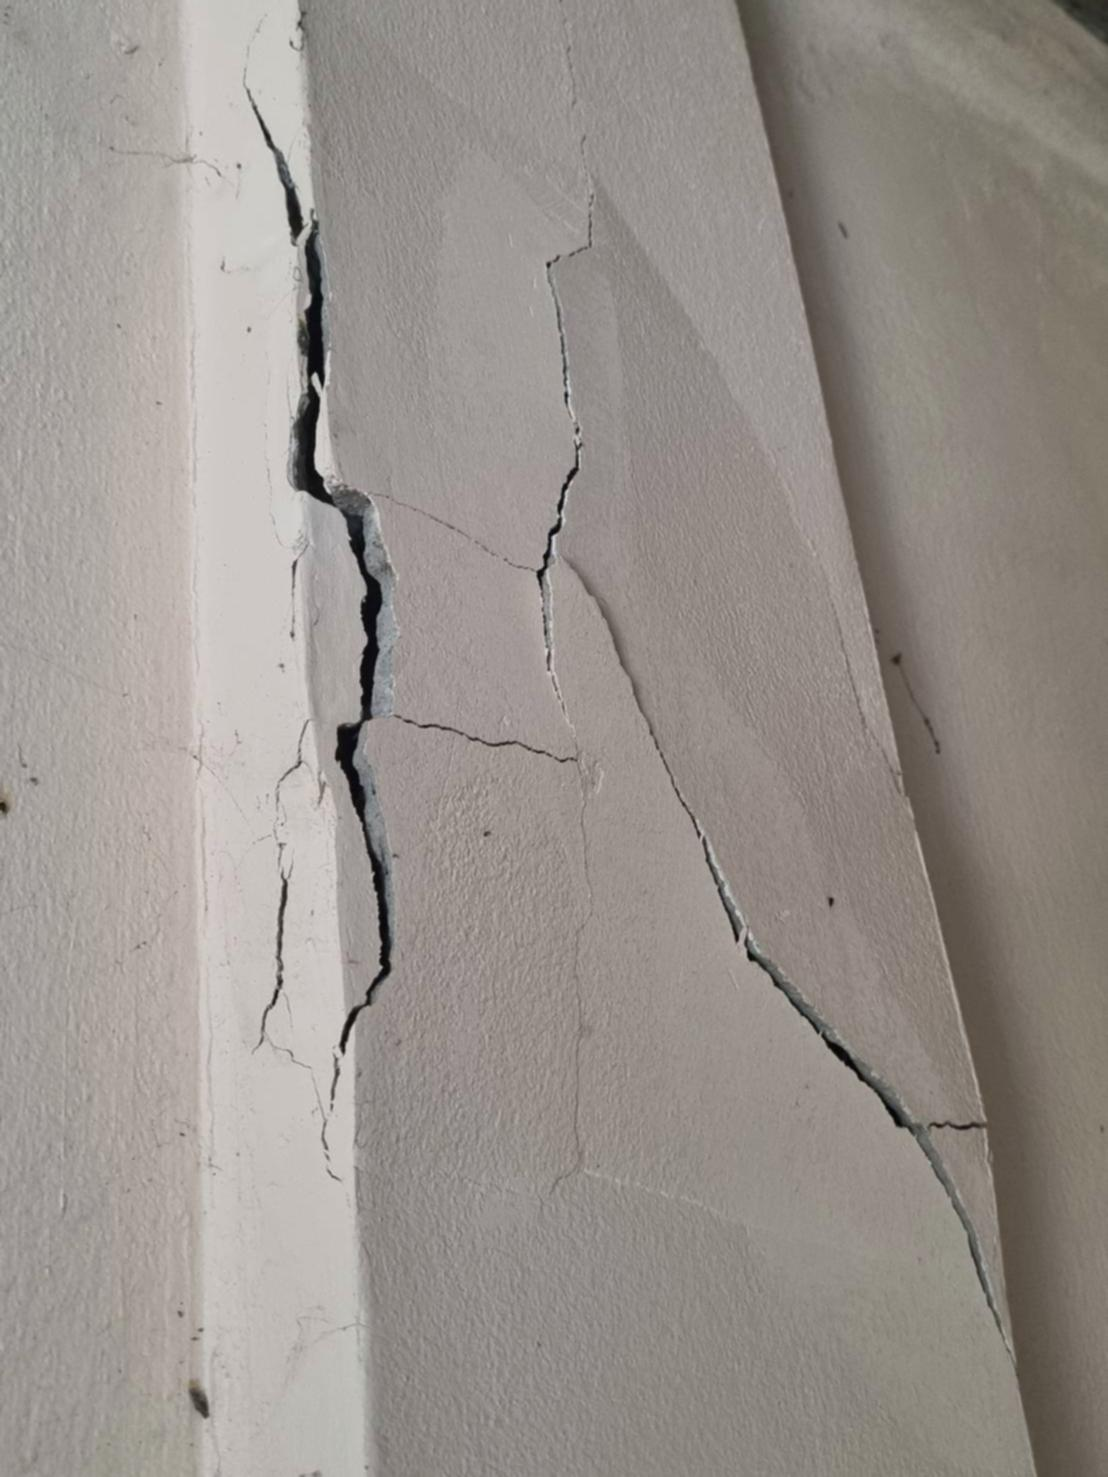High: (183, 6, 1025, 1474)
